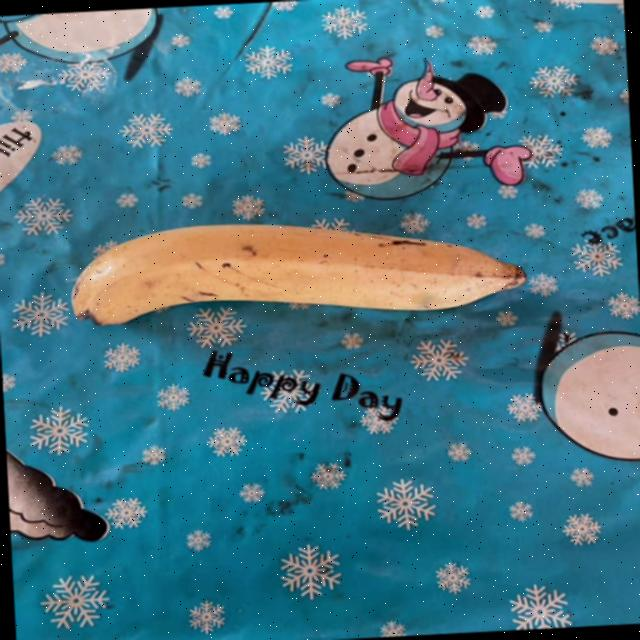Ripe: (44, 175, 538, 364)
